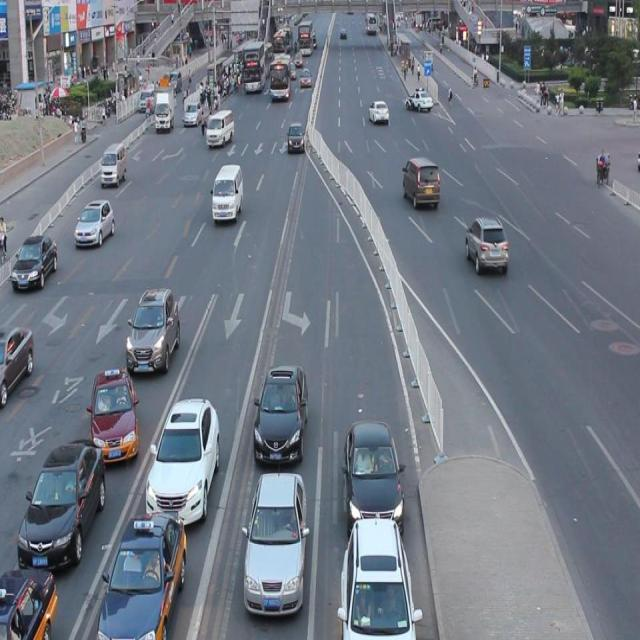car: (95, 505, 187, 640), (17, 434, 106, 571), (339, 511, 418, 640), (241, 464, 308, 615), (144, 393, 220, 524), (342, 412, 402, 528), (252, 359, 308, 464), (124, 282, 180, 375), (89, 363, 140, 464), (1, 564, 58, 640), (12, 233, 58, 290), (1, 322, 34, 401), (464, 215, 508, 273), (74, 198, 115, 248), (402, 156, 439, 210)
truck: (212, 164, 244, 222), (100, 142, 126, 186)
